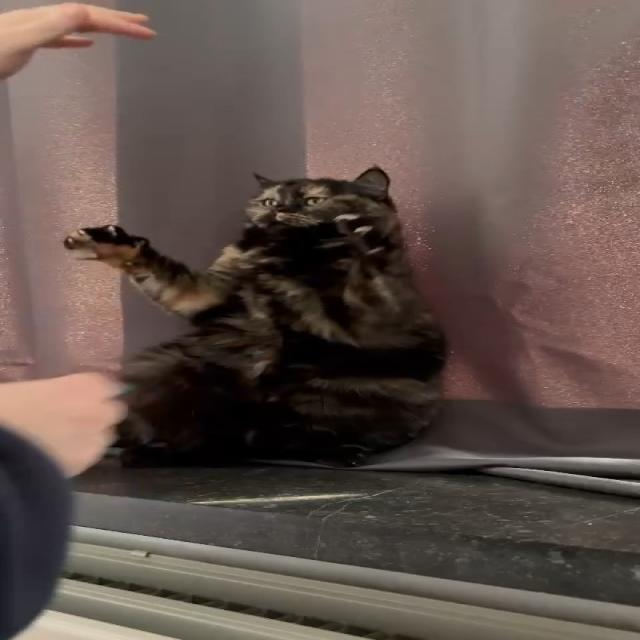authorized: (62, 164, 450, 468)
